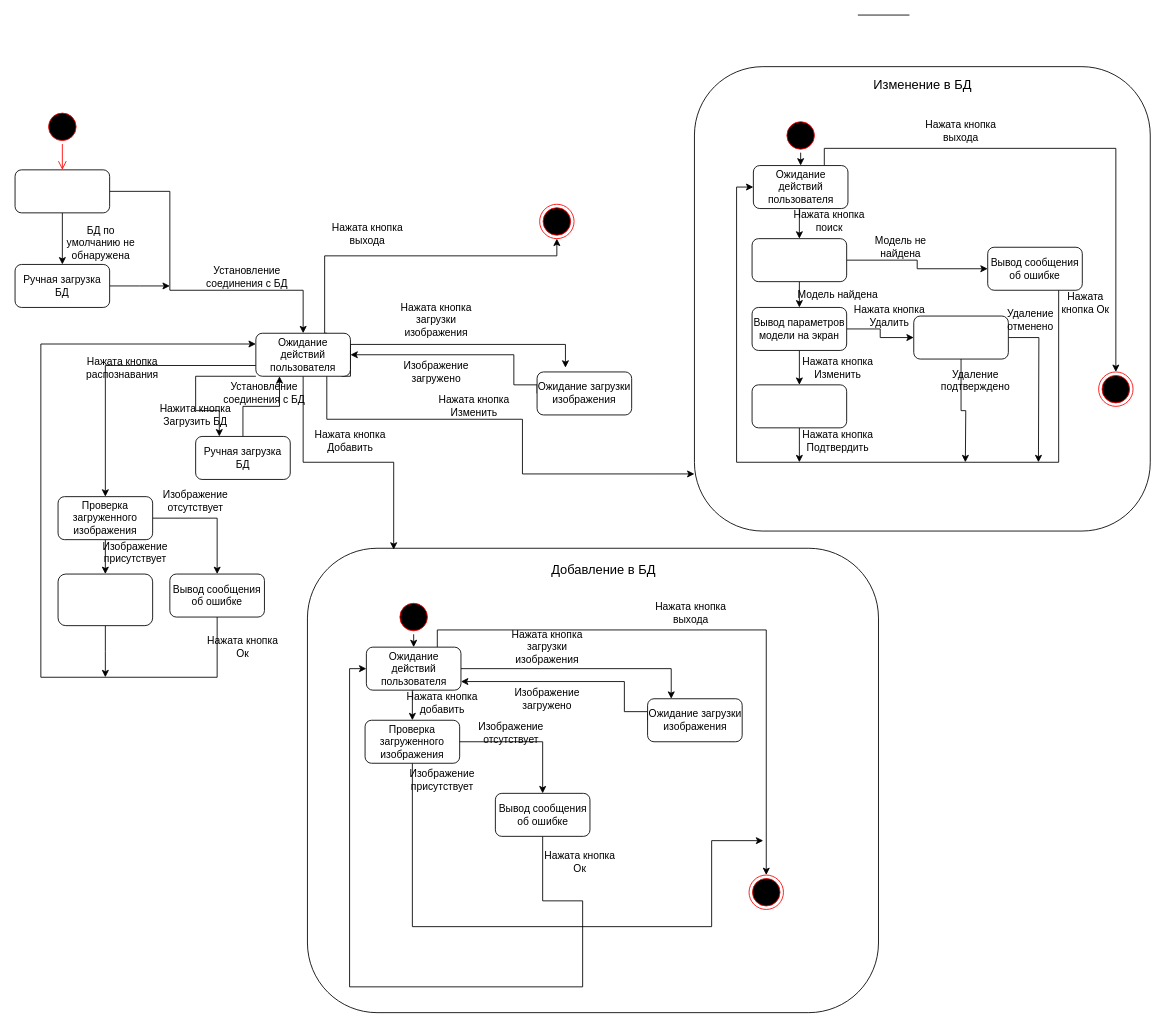
This 1165x1028 diagram has some shape labels left out. The centre of each missing label's shape, as x and y in pixels:
"Автоматическая загрузка БД" belongs at [62,191].
"Вывод результатов на экран" belongs at [105,599].
"Запрос подтверждения удаления" belongs at [960,337].
"Ожидание ввода параметров" belongs at [799,406].
"Поиск моделей в БД" belongs at [799,260].
